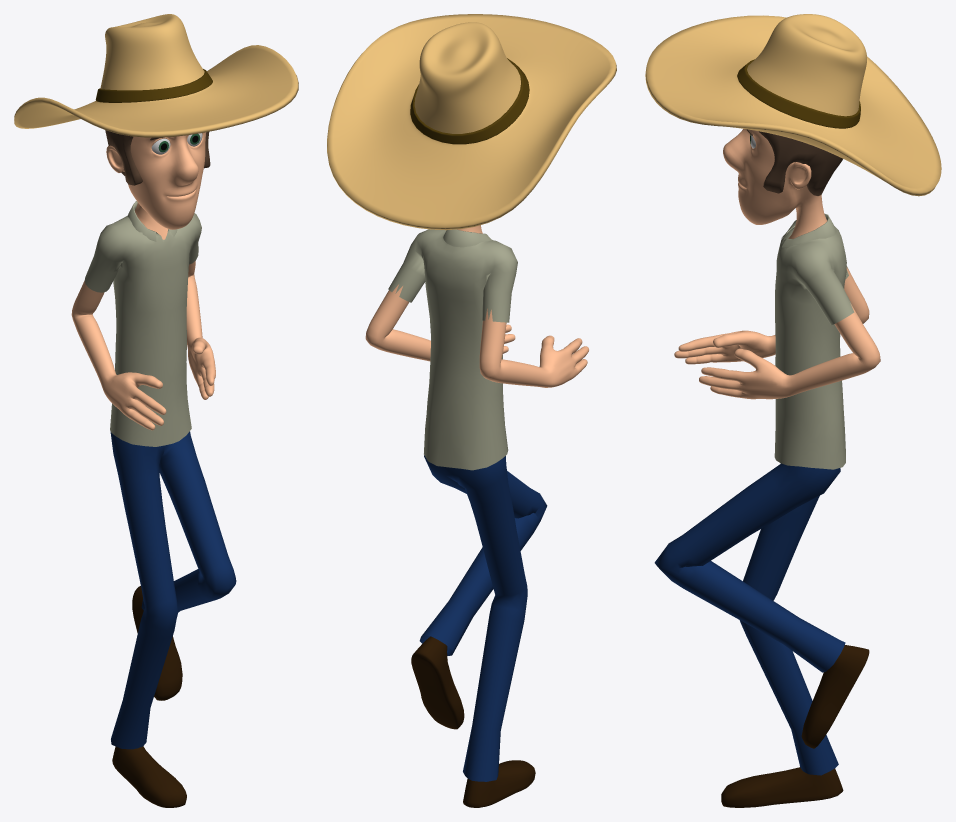
The model's file is GuyRun3.obj.
3 renders of one model, left to right at view 1: azimuth 30°, elevation 25°; view 2: azimuth 150°, elevation 25°; view 3: azimuth 270°, elevation 25°, orthographic. The views are drawn at different scales.
Size of the model in its own units: 2.18 by 7.15 by 2.43.
